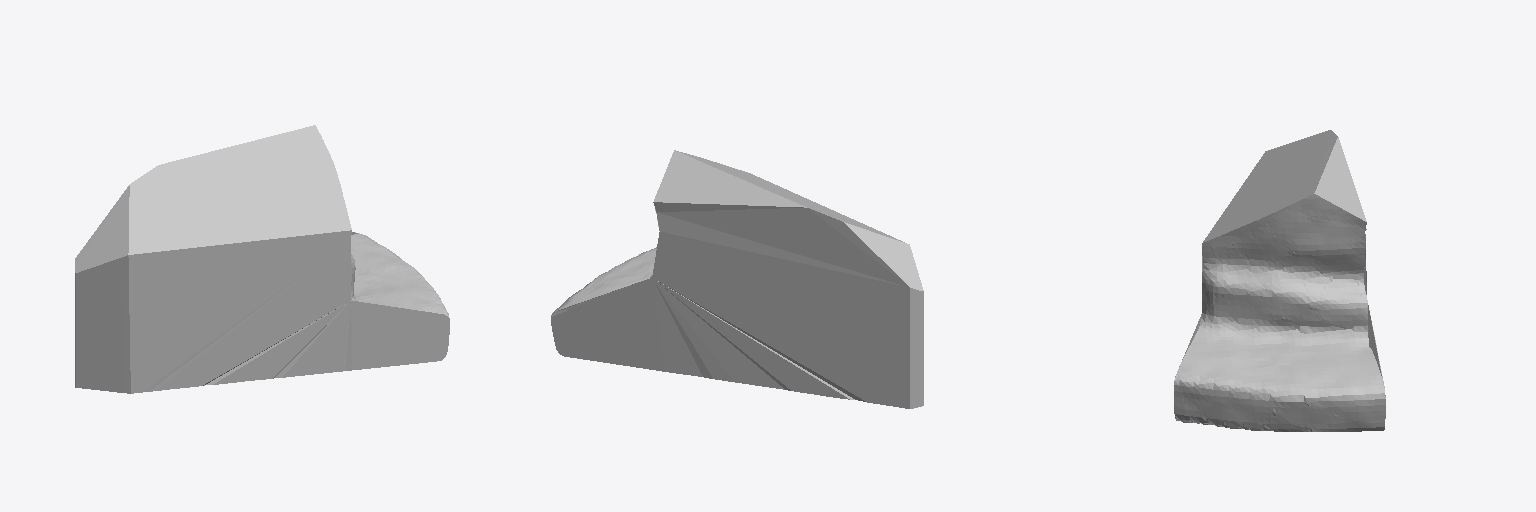
Rendered from low_cell_087.obj.
The picture shows the model from 3 angles: view 1: azimuth 30°, elevation 25°; view 2: azimuth 150°, elevation 25°; view 3: azimuth 270°, elevation 25°; orthographic projection.
Parts seen in each view (by area): view 1: low_cell.087_low_cell.086; view 2: low_cell.087_low_cell.086; view 3: low_cell.087_low_cell.086.
Part boxes in pixels (left/top/right/bottom): low_cell.087_low_cell.086: left=75, top=125, right=449, bottom=393; low_cell.087_low_cell.086: left=551, top=150, right=923, bottom=408; low_cell.087_low_cell.086: left=1174, top=130, right=1385, bottom=431.
Size of the model in its own units: 1.16 by 0.6552 by 0.6321.